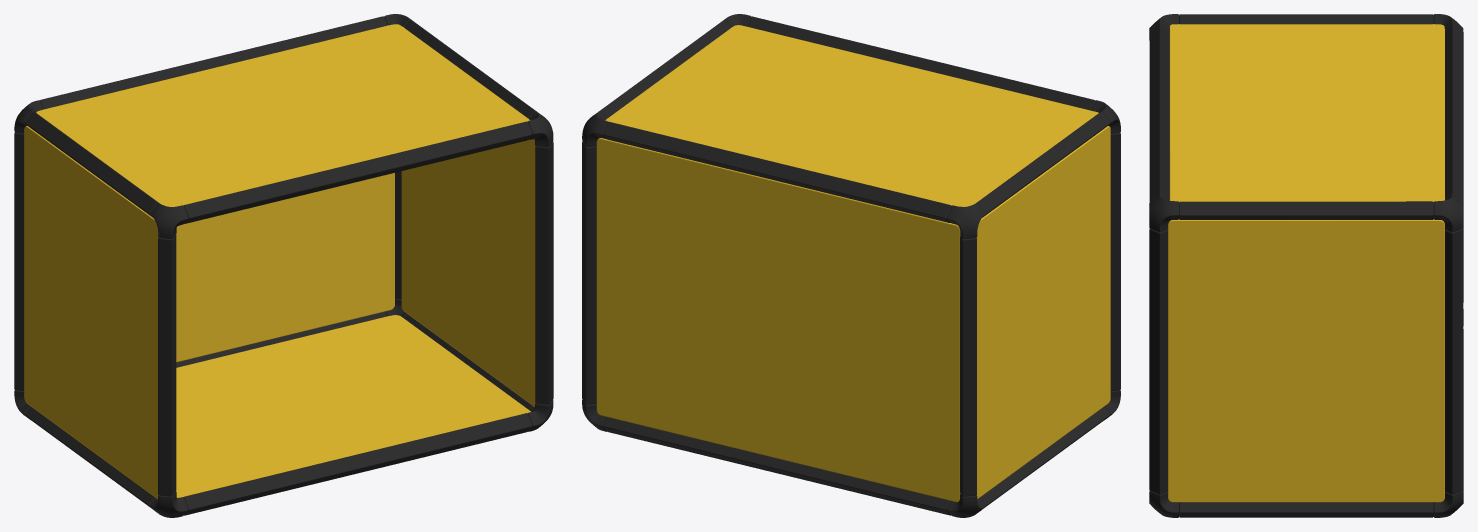
3 renders of one model, left to right at view 1: azimuth 30°, elevation 25°; view 2: azimuth 150°, elevation 25°; view 3: azimuth 270°, elevation 25°, orthographic.
Parts seen in each view (by area): view 1: 523x329x374; view 2: 523x329x374; view 3: 523x329x374.
Part boxes in pixels (bbox=[...]): 523x329x374: bbox=[14, 14, 553, 517]; 523x329x374: bbox=[582, 14, 1120, 517]; 523x329x374: bbox=[1149, 14, 1463, 517].
Size of the model in its own units: 0.6007 by 0.4516 by 0.4062.
